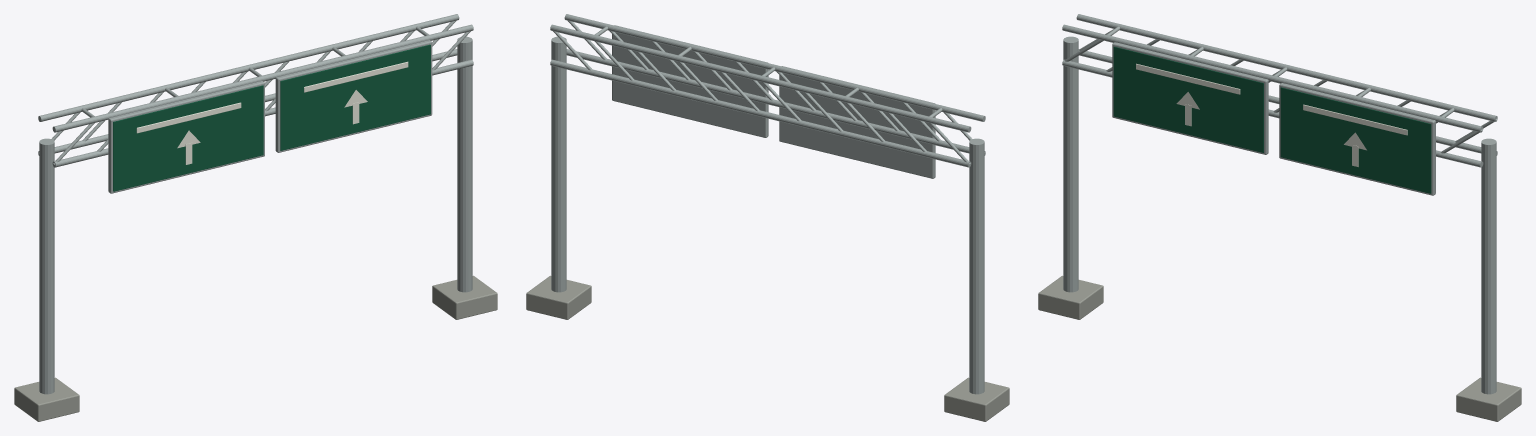
File: source-edit.glb
The picture shows the model from 3 angles, left to right: view 1: azimuth 30°, elevation 25°; view 2: azimuth 150°, elevation 25°; view 3: azimuth 330°, elevation 25°; orthographic projection.
Visible parts, largest first — view 1: SIGN_Green_0, SIGN_Green_1, POST_-5, POST_5, TRUSS_Chord_0.3_6.5, TRUSS_Chord_-0.3_6.5, BASE_5, BASE_-5, SIGN_Back_1, SIGN_Back_0, TRUSS_Chord_-0.3_5.7, LABEL_Replaceable_0 (+2 smaller); view 2: SIGN_Back_1, SIGN_Back_0, POST_-5, POST_5, TRUSS_Chord_0.3_6.5, TRUSS_Chord_-0.3_6.5, TRUSS_Chord_0.3_5.7, TRUSS_Chord_-0.3_5.7, BASE_5, BASE_-5; view 3: SIGN_Green_1, SIGN_Green_0, POST_5, POST_-5, TRUSS_Chord_0.3_6.5, TRUSS_Chord_-0.3_6.5, BASE_-5, BASE_5, SIGN_Back_1, SIGN_Back_0, TRUSS_Chord_-0.3_5.7, LABEL_Replaceable_0 (+2 smaller).
Boxes of the visible parts, x1,y1,x2,y2 form: SIGN_Green_0: (113,85,263,191); SIGN_Green_1: (280,44,430,150); POST_-5: (39,138,54,394); POST_5: (457,36,472,292); TRUSS_Chord_0.3_6.5: (38,14,459,121); TRUSS_Chord_-0.3_6.5: (52,24,473,132); BASE_5: (432,275,497,319); BASE_-5: (14,377,79,421); SIGN_Back_1: (275,40,432,152); SIGN_Back_0: (108,81,264,193); TRUSS_Chord_-0.3_5.7: (52,59,473,167); LABEL_Replaceable_0: (136,102,241,133); SIGN_Back_1: (612,25,768,137); SIGN_Back_0: (779,66,935,178); POST_-5: (969,138,984,394); POST_5: (551,36,566,292); TRUSS_Chord_0.3_6.5: (550,24,971,132); TRUSS_Chord_-0.3_6.5: (564,14,985,121); TRUSS_Chord_0.3_5.7: (550,59,971,167); TRUSS_Chord_-0.3_5.7: (566,49,985,155); BASE_5: (526,275,591,319); BASE_-5: (944,377,1009,421); SIGN_Green_1: (1280,87,1431,193); SIGN_Green_0: (1113,46,1263,152); POST_5: (1481,138,1496,394); POST_-5: (1063,36,1078,292); TRUSS_Chord_0.3_6.5: (1076,14,1497,121); TRUSS_Chord_-0.3_6.5: (1062,24,1483,132); BASE_-5: (1038,275,1103,319); BASE_5: (1456,377,1521,421); SIGN_Back_1: (1279,83,1435,195); SIGN_Back_0: (1112,42,1268,154); TRUSS_Chord_-0.3_5.7: (1062,59,1483,167); LABEL_Replaceable_0: (1136,63,1240,94).
Bounding box in the file's own units: 11 × 6.57 × 1.02.
